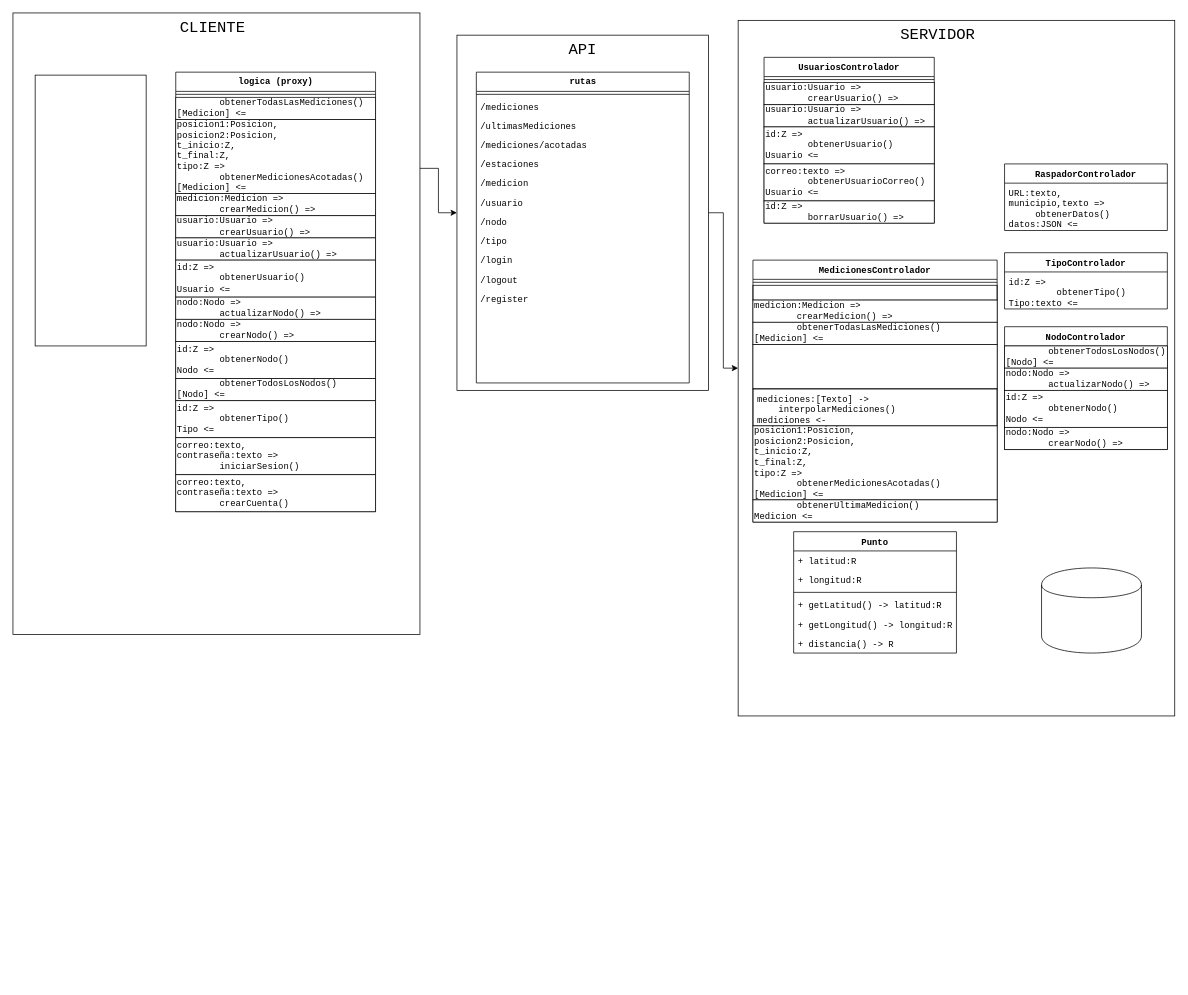
The diagram is 1188 pixels wide and 995 high, and some of its shapes have lost their labels. Each missing label, with the centre of its shape:
"idUsuario:Z, cuantas:Z => obtenerUltimasMedicionesDeUsuario() [Medicion] <=" belongs at point 874,366.
"m1_database" belongs at point 1091,610.
"toString() -> json:Texto" belongs at point 874,292.
"UX" belongs at point 90,210.
